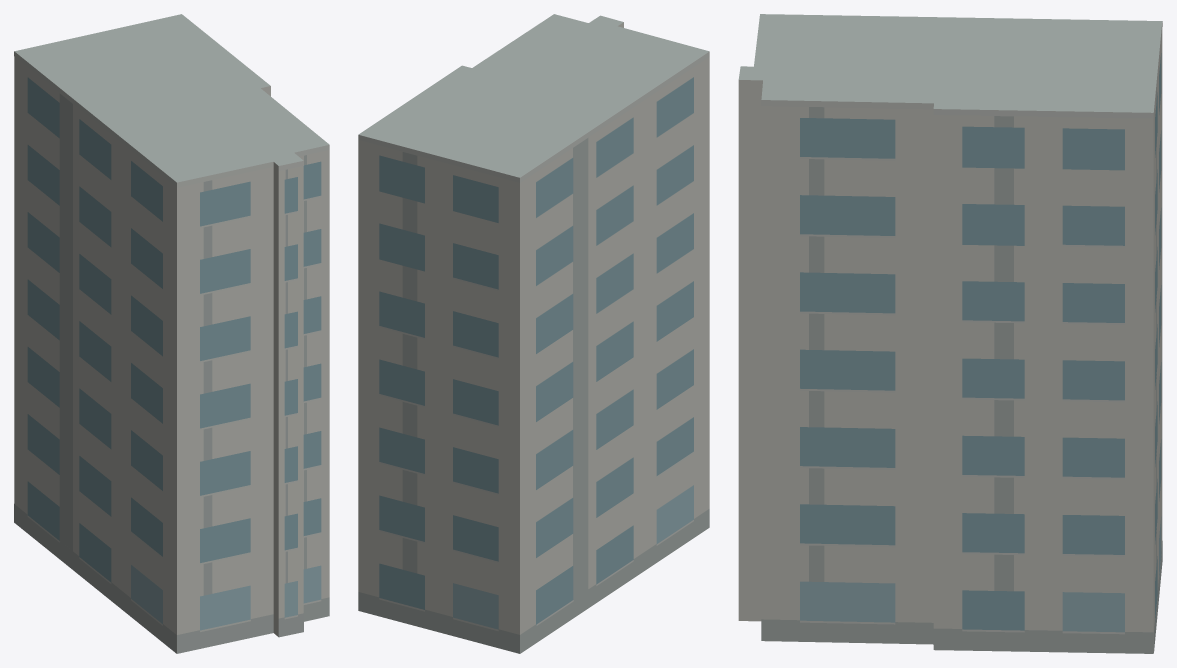
File: survey-upis-32976357.glb
3 views of the same model, side by side, from view 1: azimuth 30°, elevation 25°; view 2: azimuth 150°, elevation 25°; view 3: azimuth 270°, elevation 25° (orthographic). The views are drawn at different scales.
Parts seen in each view (by area): view 1: survey-upis-32976357.tmp; view 2: survey-upis-32976357.tmp; view 3: survey-upis-32976357.tmp.
Part boxes in pixels (<box>): survey-upis-32976357.tmp: <box>14,14,329,653</box>; survey-upis-32976357.tmp: <box>358,14,709,653</box>; survey-upis-32976357.tmp: <box>738,14,1162,653</box>.
Bounding box in the file's own units: 8.63 × 22 × 15.63.
